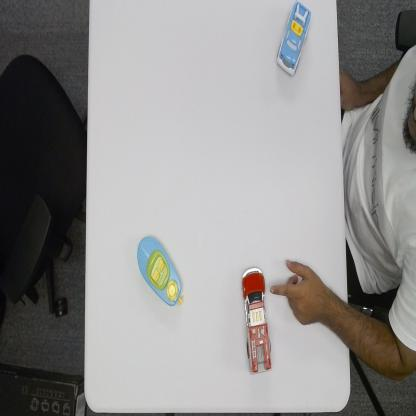Arm: (324, 283, 350, 347)
Boat: (136, 234, 186, 307)
Car: (276, 1, 312, 78)
Firetruck: (240, 265, 273, 376)
Hand: (269, 256, 321, 328)
